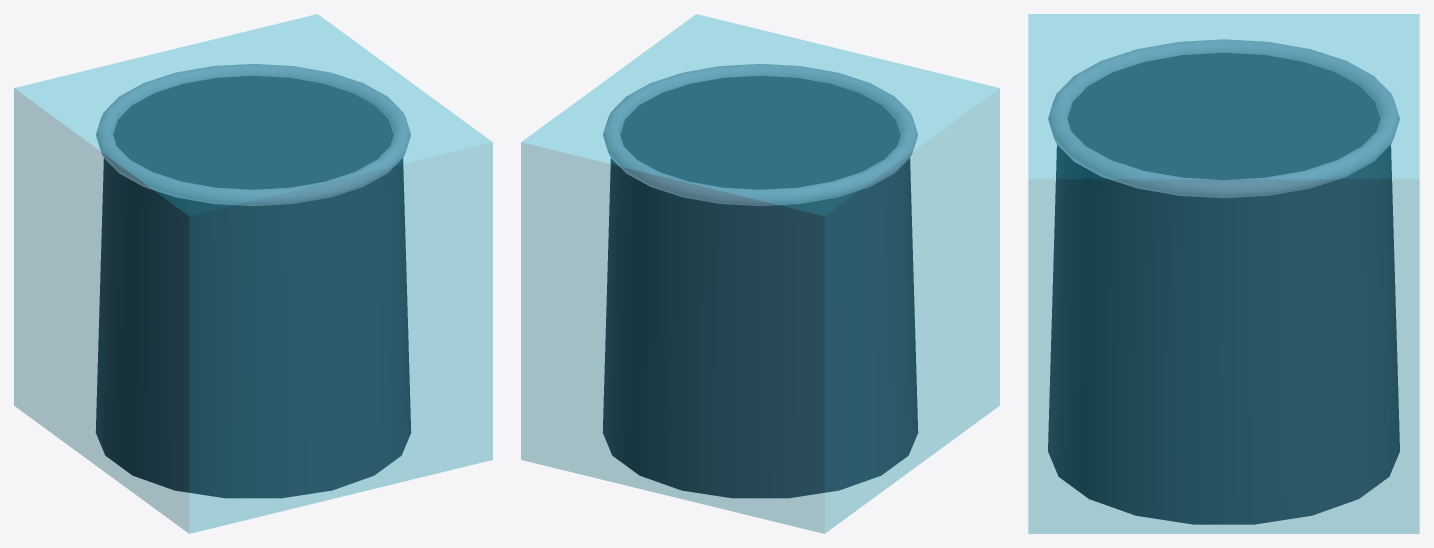
The model's file is obstacle.glb.
3 renders of one model, left to right at view 1: azimuth 30°, elevation 25°; view 2: azimuth 150°, elevation 25°; view 3: azimuth 270°, elevation 25°, orthographic. The views are drawn at different scales.
Parts seen in each view (by area): view 1: Cluster_BoundingBox, Obstacle_Body, Obstacle_Crown; view 2: Cluster_BoundingBox, Obstacle_Body, Obstacle_Crown; view 3: Cluster_BoundingBox, Obstacle_Body, Obstacle_Crown.
Part boxes in pixels (x1,y1,x2,y2): Cluster_BoundingBox: (14, 14, 492, 533); Obstacle_Body: (95, 75, 411, 498); Obstacle_Crown: (96, 64, 410, 206); Cluster_BoundingBox: (521, 14, 999, 533); Obstacle_Body: (602, 75, 918, 498); Obstacle_Crown: (603, 64, 917, 206); Cluster_BoundingBox: (1028, 14, 1419, 533); Obstacle_Body: (1048, 52, 1399, 524); Obstacle_Crown: (1048, 39, 1399, 198).
Bounding box in the file's own units: 0.8 × 0.8 × 0.8.
